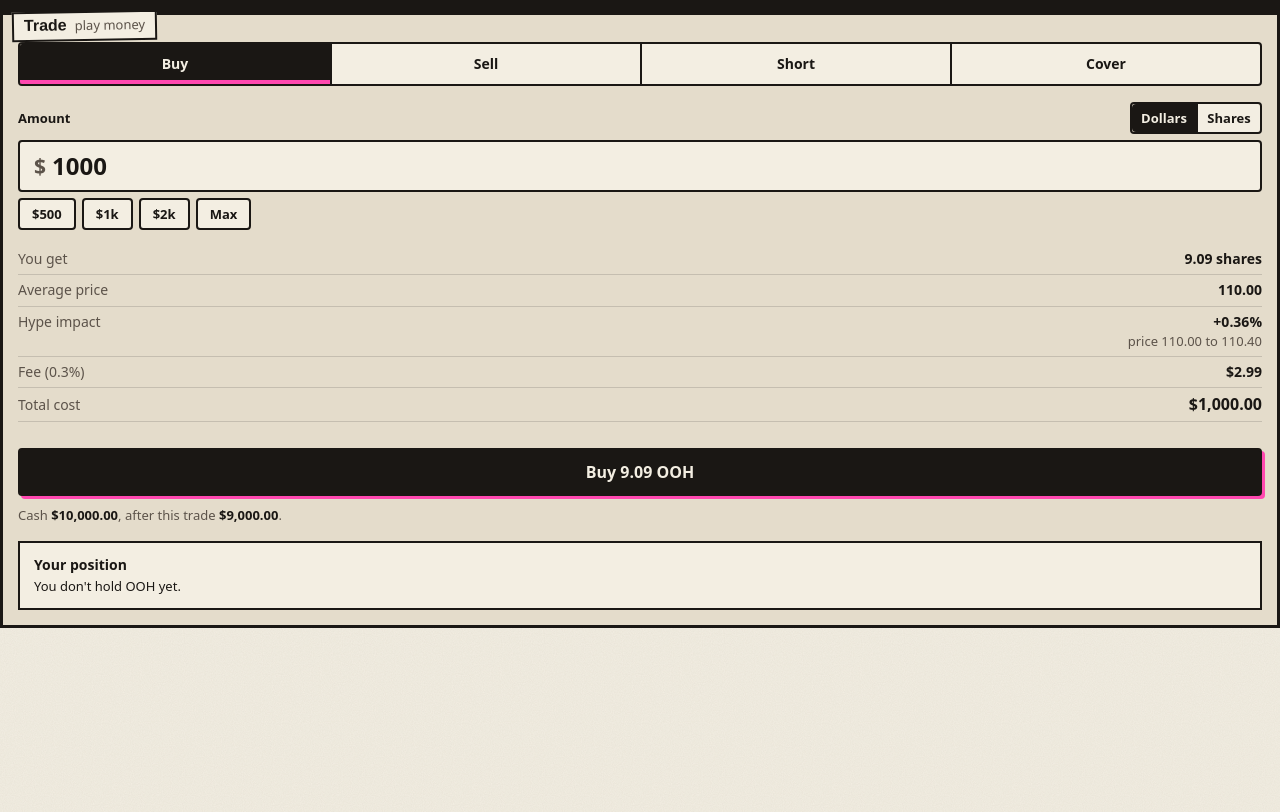
trading while the market is paused › says the market is waking up, retries once after the engine’s delay, and fills
Click the button "Buy 9.09 OOH" at [640, 472], box [18,448,1262,496]
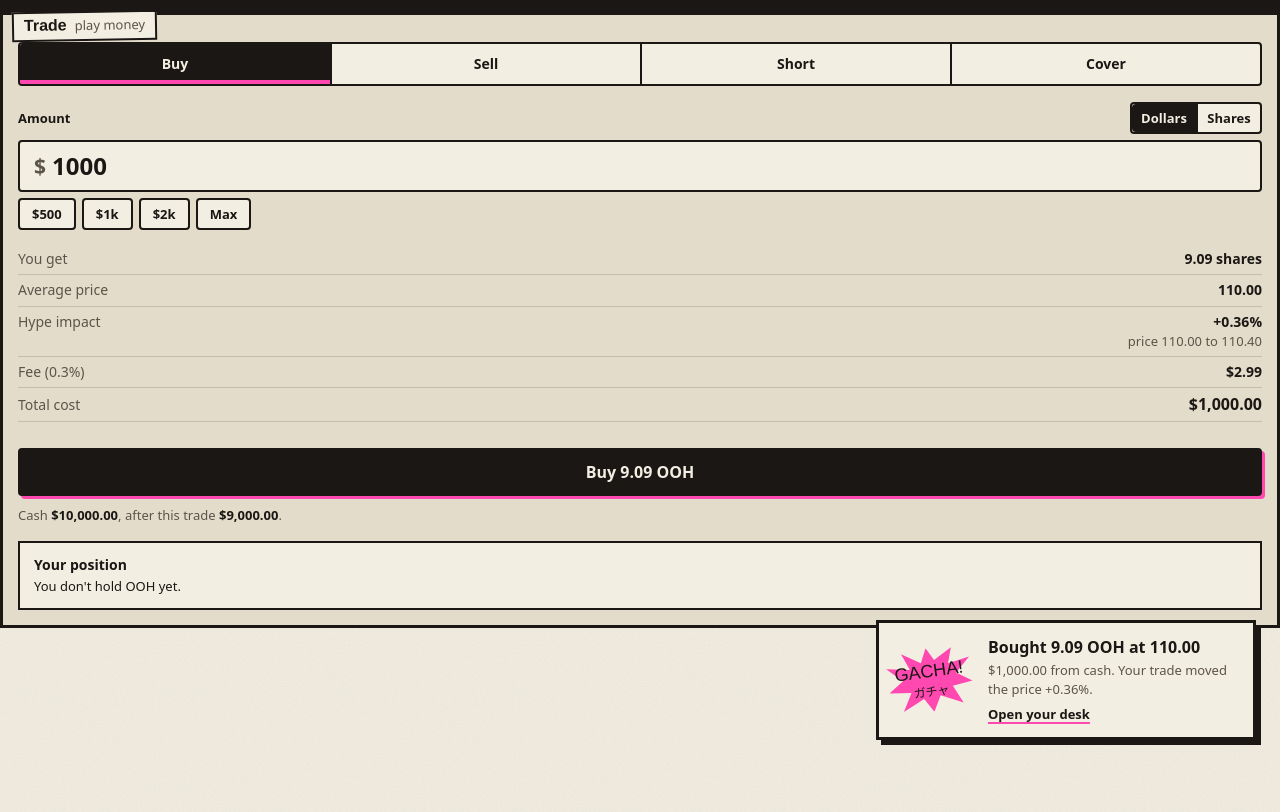
Expected: the text "Bought 9.09 OOH at 110.00" is shown, [988,636,1200,658]
